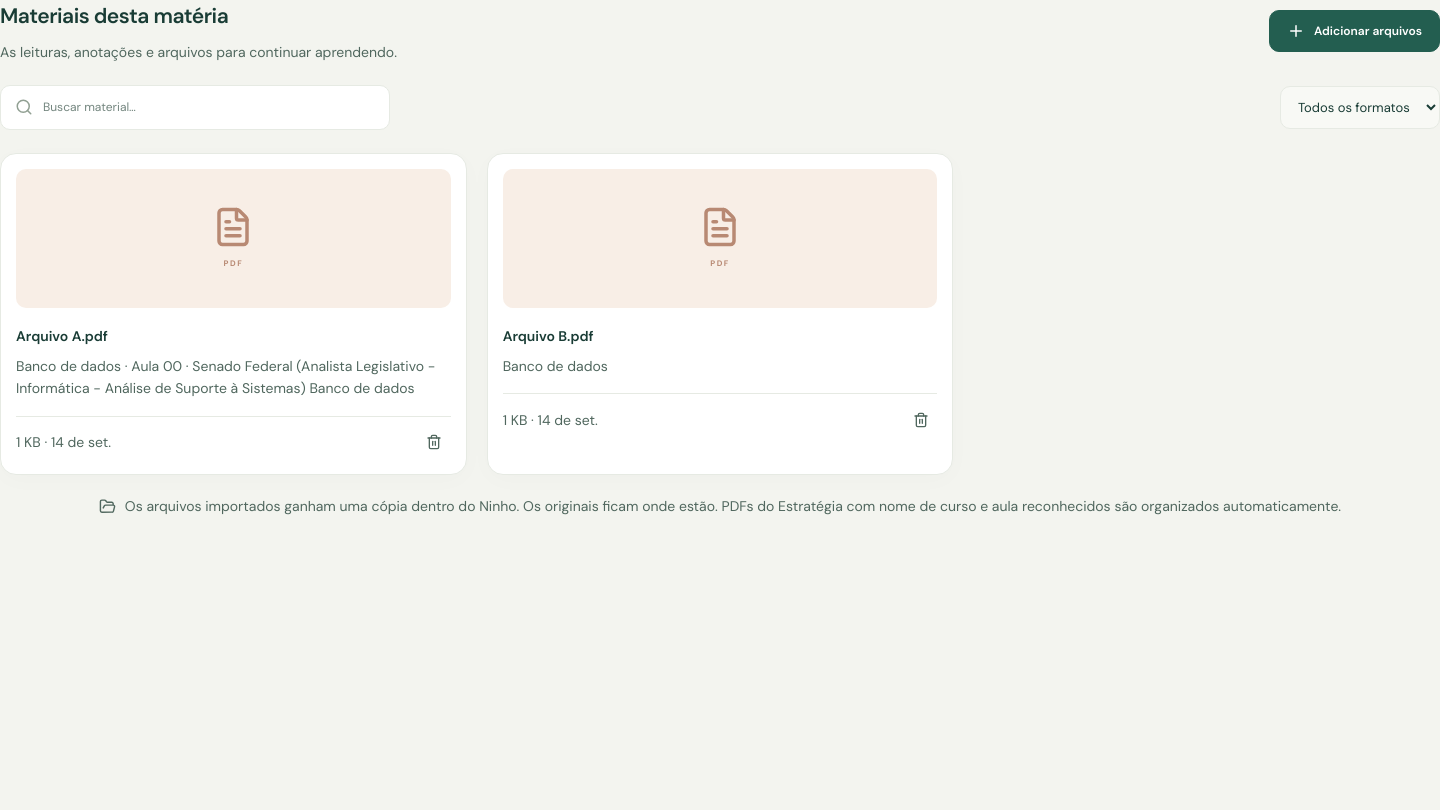
prévia PDF com endereço local curto › ignora bytes atrasados sem criar endereço depois de fechar
The width and height of the screenshot is (1440, 810).
Click the button with aria-label "Abrir Arquivo A.pdf". click: (233, 238)
box: left=16, top=168, right=451, bottom=308
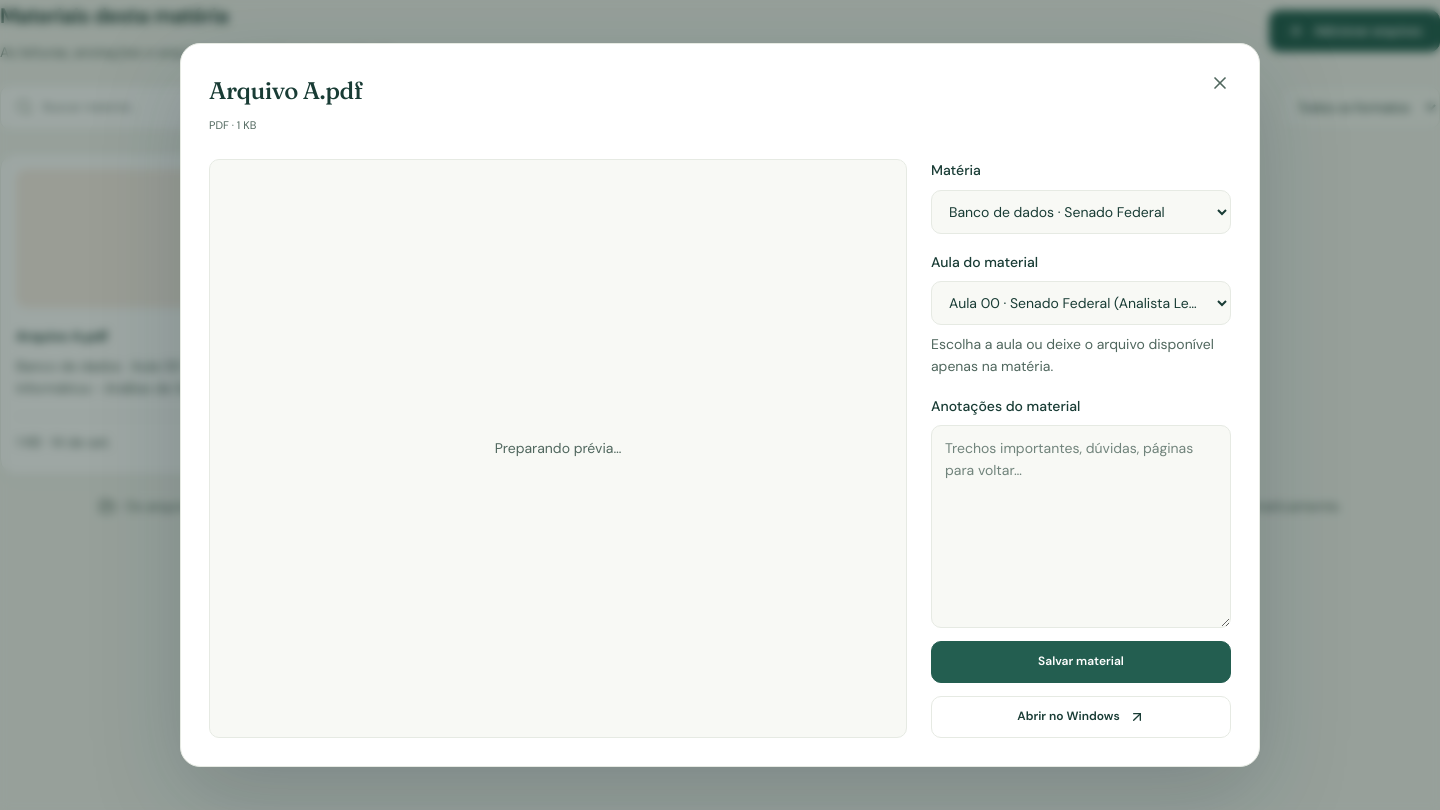
Click the button named "Fechar janela". click: (1220, 83)
box: left=1203, top=67, right=1236, bottom=100
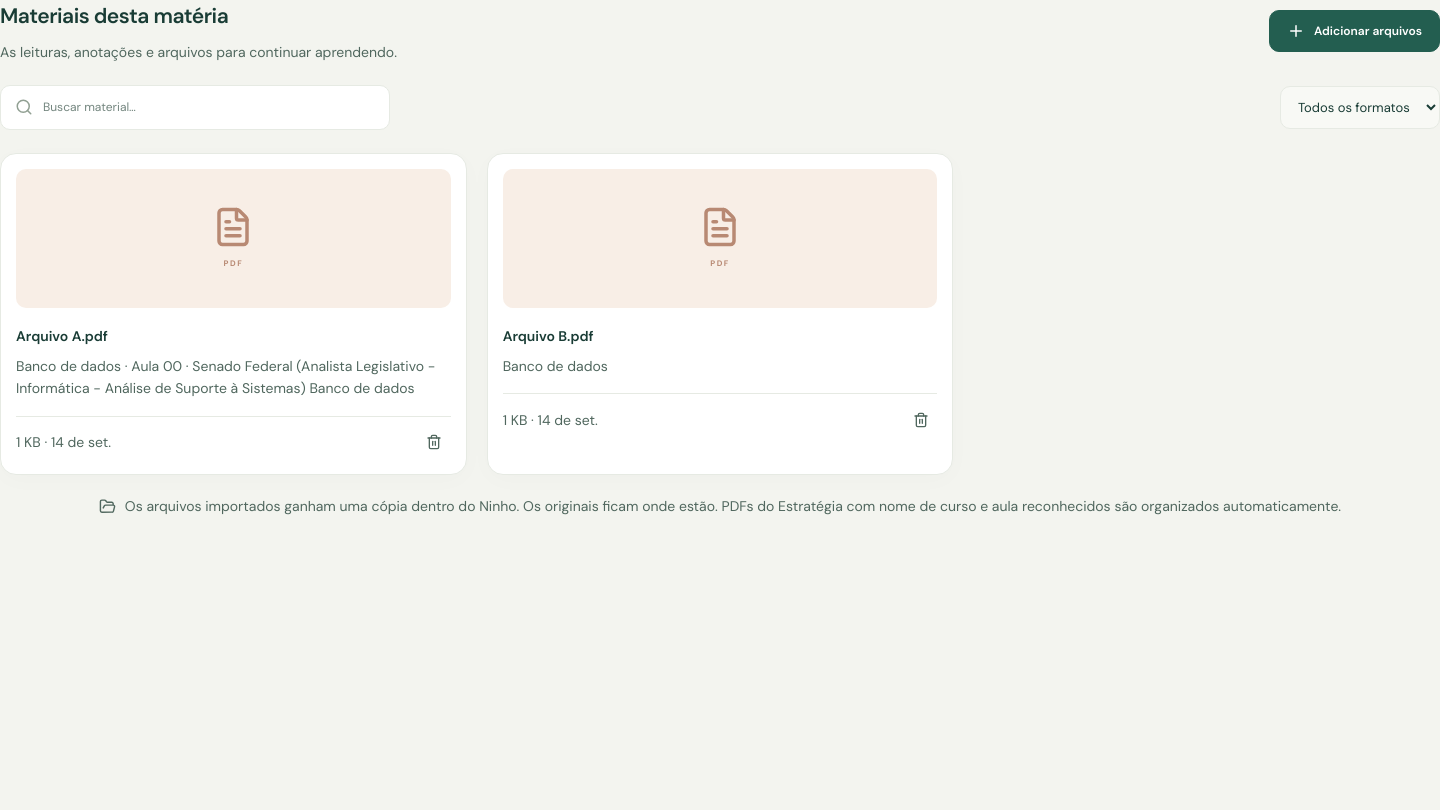
Check: the dialog is gone
